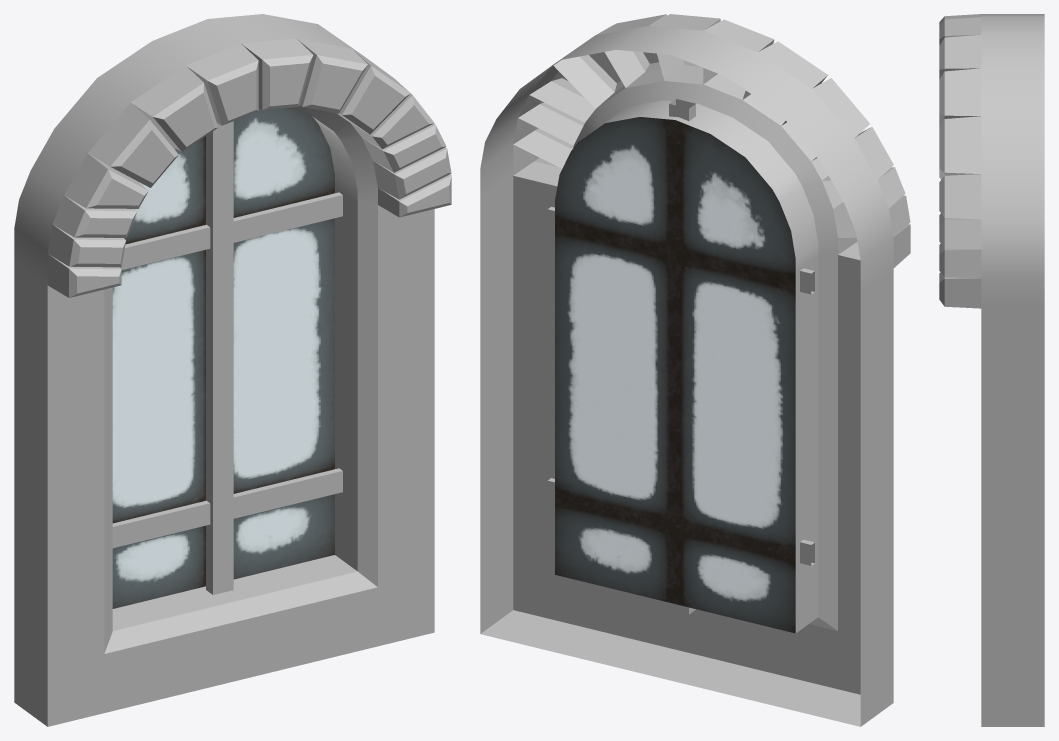
File: SM_Window_A.fbx
3 views of the same model, side by side, from view 1: azimuth 30°, elevation 25°; view 2: azimuth 150°, elevation 25°; view 3: azimuth 270°, elevation 25° (orthographic). The views are drawn at different scales.
Parts seen in each view (by area): view 1: SM_Window_A; view 2: SM_Window_A; view 3: SM_Window_A.
Part boxes in pixels (<box>): SM_Window_A: <box>14,14,451,726</box>; SM_Window_A: <box>480,14,910,726</box>; SM_Window_A: <box>939,14,1044,726</box>.
Size of the model in its own units: 73.36 by 18.27 by 115.
